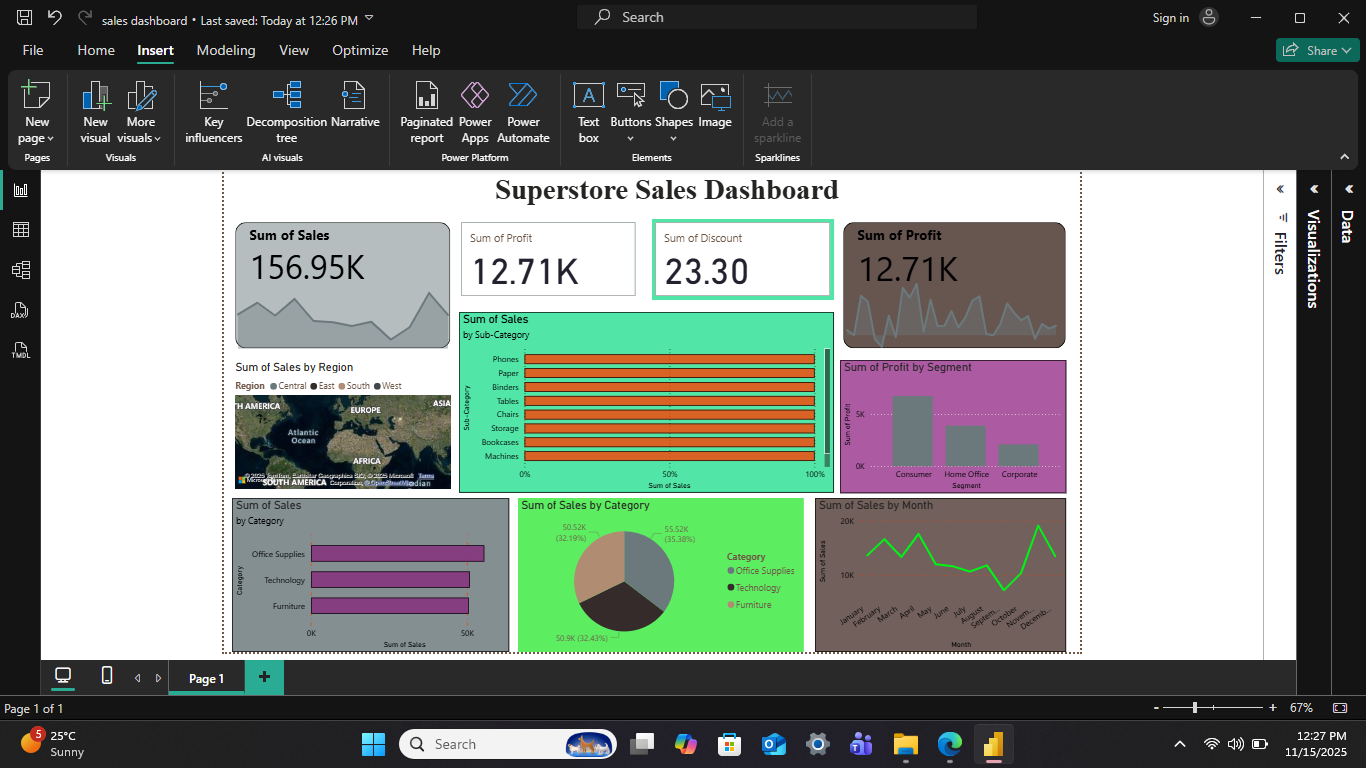

The dashboard page shown, as its layout file describes it:
{"tool":"powerbi","page":{"name":"Page 1","canvas":[1280,720],"ordinal":0},"visuals":[{"type":"cardVisual","fields":{"Data":["Sum(Superstore.Sales)"]},"box":[12,73.2,331.6,198.7],"z":0},{"type":"cardVisual","fields":{"Data":["Sum(Superstore.Profit)"]},"box":[920.2,73.2,342.1,198.7],"z":1000},{"type":"lineChart","fields":{"Y":["Sum(Superstore.Sales)"],"Category":["Superstore.Order Date.Variation.Date Hierarchy.Year","Superstore.Order Date.Variation.Date Hierarchy.Month"]},"box":[6,164.3,343.6,107.6],"z":2000},{"type":"areaChart","fields":{"Category":["Superstore.Order Date.Variation.Date Hierarchy.Year","Superstore.Order Date.Variation.Date Hierarchy.Day"],"Y":["Sum(Superstore.Profit)"]},"box":[915.7,140.4,342.1,143.4],"z":3000},{"type":"clusteredBarChart","fields":{"Category":["Superstore.Category"],"Y":["Sum(Superstore.Sales)"]},"box":[12,490,413.8,230],"z":4000},{"type":"hundredPercentStackedBarChart","fields":{"Category":["Superstore.Sub-Category"],"Y":["Sum(Superstore.Sales)"]},"box":[351,212.1,560.2,270.4],"z":5000},{"type":"lineChart","fields":{"Category":["Superstore.Order Date.Variation.Date Hierarchy.Month"],"Y":["Sum(Superstore.Sales)"]},"box":[882.8,490,374.9,230],"z":6000},{"type":"clusteredColumnChart","fields":{"Y":["Sum(Superstore.Profit)"],"Category":["Superstore.Segment"]},"box":[920.2,283.8,337.6,198.7],"z":7000},{"type":"filledMap","fields":{"Series":["Superstore.Region"]},"box":[12,283.8,331.6,198.7],"z":8000},{"type":"cardVisual","fields":{"Data":["Sum(Superstore.Profit)"]},"box":[349.5,73.2,270.4,121],"z":9000},{"type":"cardVisual","fields":{"Data":["Sum(Superstore.Discount)"]},"box":[639.3,73.2,271.9,121],"z":10000},{"type":"pieChart","fields":{"Category":["Superstore.Category"],"Y":["Sum(Superstore.Sales)"]},"box":[439.2,490,427.2,230],"z":11000},{"type":"textbox","box":[316.7,0,690.1,62.7],"z":12000}]}

Visuals, with their boxes on the page's 1280x720 design canvas (x1, y1, x2, y2). These are canvas units, not pixel positions in the 1366x768 screenshot, which may show the page scaled, cropped or inside an application window:
cardVisual - Sum(Superstore.Sales): bbox=(12, 73, 344, 272)
cardVisual - Sum(Superstore.Profit): bbox=(920, 73, 1262, 272)
lineChart - Sum(Superstore.Sales) x Superstore.Order Date.Variation.Date Hierarchy.Year: bbox=(6, 164, 350, 272)
areaChart - Superstore.Order Date.Variation.Date Hierarchy.Year x Superstore.Order Date.Variation.Date Hierarchy.Day: bbox=(916, 140, 1258, 284)
clusteredBarChart - Superstore.Category x Sum(Superstore.Sales): bbox=(12, 490, 426, 720)
hundredPercentStackedBarChart - Superstore.Sub-Category x Sum(Superstore.Sales): bbox=(351, 212, 911, 482)
lineChart - Superstore.Order Date.Variation.Date Hierarchy.Month x Sum(Superstore.Sales): bbox=(883, 490, 1258, 720)
clusteredColumnChart - Sum(Superstore.Profit) x Superstore.Segment: bbox=(920, 284, 1258, 482)
filledMap - Superstore.Region: bbox=(12, 284, 344, 482)
cardVisual - Sum(Superstore.Profit): bbox=(350, 73, 620, 194)
cardVisual - Sum(Superstore.Discount): bbox=(639, 73, 911, 194)
pieChart - Superstore.Category x Sum(Superstore.Sales): bbox=(439, 490, 866, 720)
textbox: bbox=(317, 0, 1007, 63)
